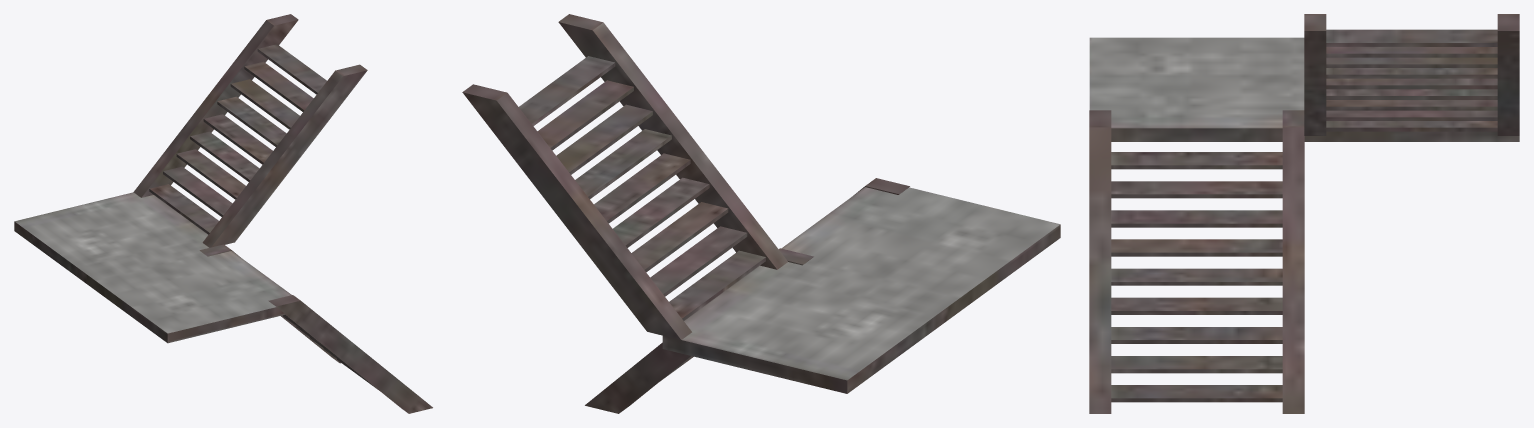
The model's file is armored_stairs_u_shape_textured.glb.
The picture shows the model from 3 angles, left to right: view 1: azimuth 30°, elevation 25°; view 2: azimuth 150°, elevation 25°; view 3: azimuth 270°, elevation 25°; orthographic projection. The views are drawn at different scales.
Visible parts, largest first — view 1: Cube.001; view 2: Cube.001; view 3: Cube.001.
Boxes of the visible parts, x1,y1,x2,y2 form: Cube.001: (14, 14, 432, 413); Cube.001: (462, 14, 1060, 413); Cube.001: (1089, 14, 1519, 413).
Bounding box in the file's own units: 2.08 × 2.01 × 2.
Materials: 1 (1 with a texture image).
